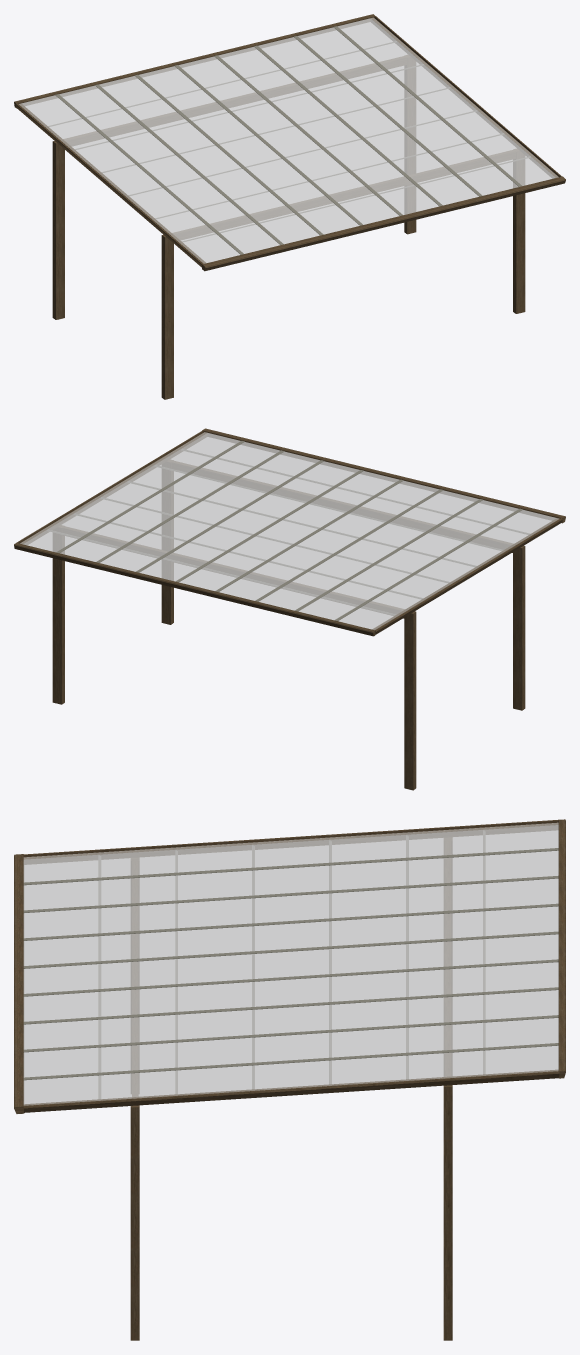
File: APwide_5450-22_brownebony.fbx
3 renders of one model, top to bottom at view 1: azimuth 30°, elevation 25°; view 2: azimuth 150°, elevation 25°; view 3: azimuth 270°, elevation 25°, orthographic. The views are drawn at different scales.
Visible parts, largest first — view 1: APwide_5450-22_brownebony; view 2: APwide_5450-22_brownebony; view 3: APwide_5450-22_brownebony.
Part boxes in pixels (x1,y1,x2,y2): APwide_5450-22_brownebony: (14,14,565,399); APwide_5450-22_brownebony: (14,428,565,790); APwide_5450-22_brownebony: (14,819,565,1340).
Size of the model in its own units: 535 by 266 by 494.
4 materials, 3 textured.
